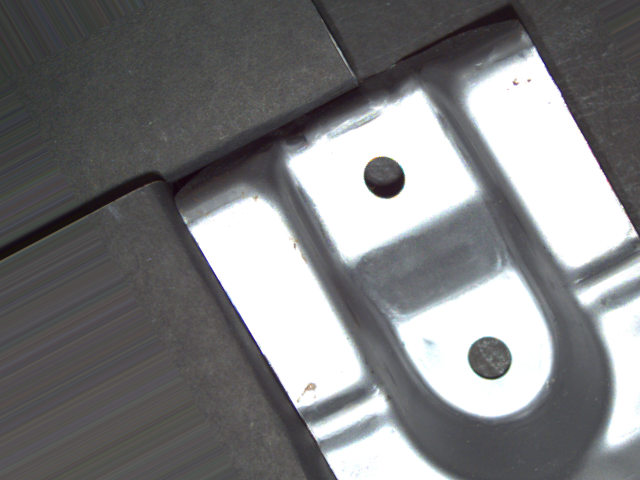defect: (460, 333, 517, 384)
